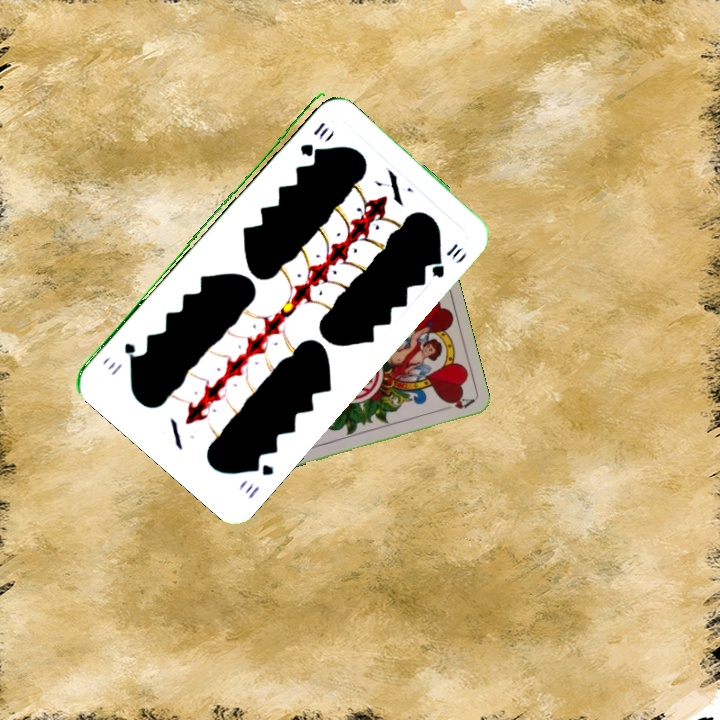G10: (241, 455, 277, 501), (295, 118, 332, 158)
